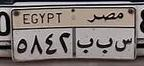2: (58, 31, 71, 56)
4: (44, 33, 57, 55)
5: (16, 37, 28, 55)
8: (29, 33, 43, 57)
baa: (95, 36, 113, 55), (76, 38, 94, 56)
seen: (115, 37, 133, 54)
